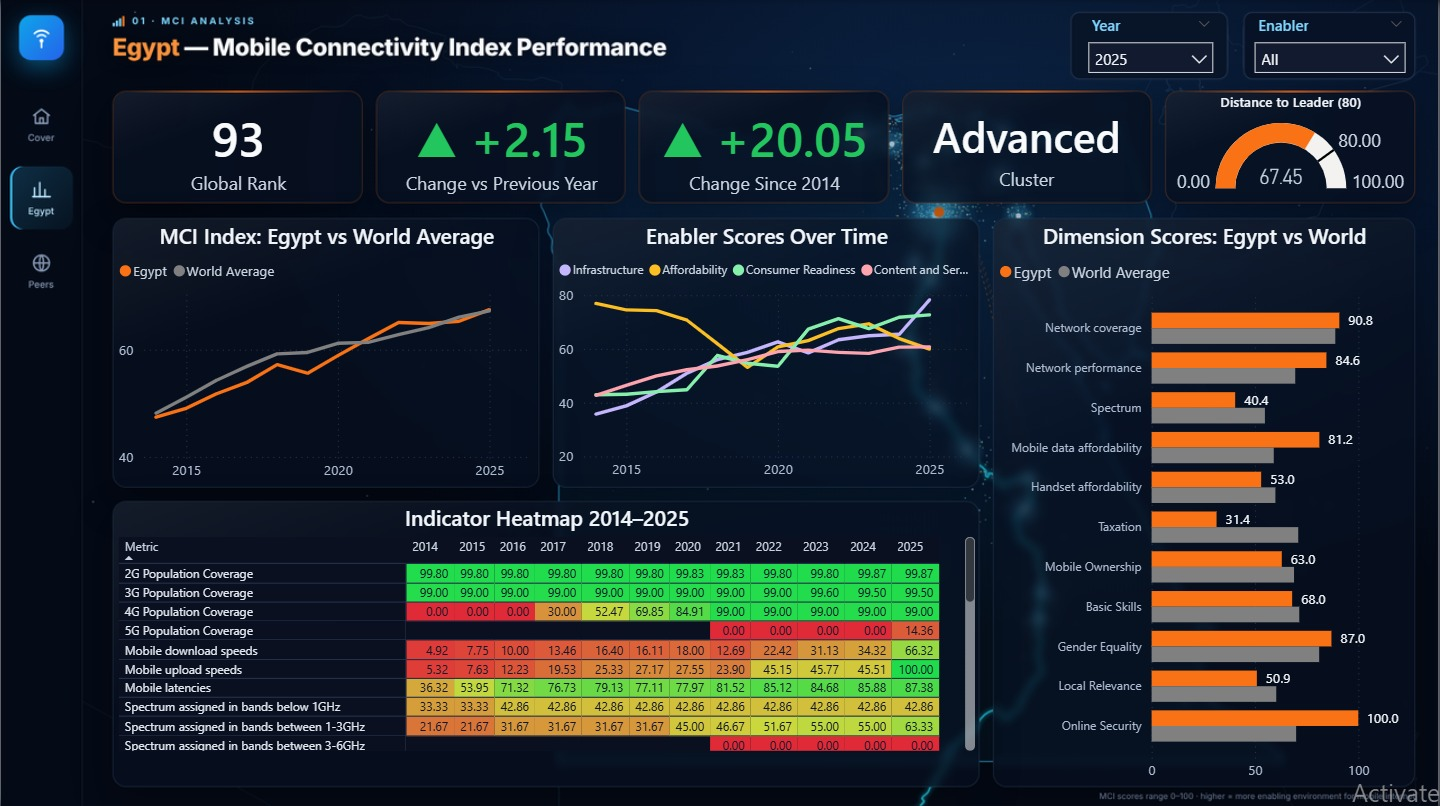

The page's visual inventory and layout, read from the dashboard file:
{"tool":"powerbi","page":{"name":"Egypt Overview","canvas":[1280,720],"ordinal":1},"visuals":[{"type":"slicer","fields":{"Values":["Index Scores.Year"]},"box":[959.1,8.4,129.1,62.7],"z":0},{"type":"card","fields":{"Values":["_Measures.YoY Display"]},"box":[335,83,222.3,100.2],"z":1000},{"type":"card","fields":{"Values":["_Measures.Since2014 Display"]},"box":[569,83,223,100.2],"z":2000},{"type":"card","fields":{"Values":["_Measures.Global Rank"]},"box":[100,83,223,100.2],"z":3000},{"type":"card","fields":{"Values":["_Measures.Current Cluster"]},"box":[802.5,82.7,222.4,99.8],"z":4000},{"type":"lineChart","title":"MCI Index: Egypt vs World Average","fields":{"Category":["Index Scores.Year"],"Y":["_Measures.Index Score","_Measures.World Avg Index"]},"box":[100,197,380,240],"z":5000},{"type":"lineChart","title":"Enabler Scores Over Time","fields":{"Category":["Index Scores.Year"],"Y":["Avg(Index Scores.Score)"],"Series":["Dim_Metric.Metric"]},"box":[491.6,197.4,380.1,239.1],"z":6000},{"type":"clusteredBarChart","title":"Dimension Scores: Egypt vs World","fields":{"Category":["Dim_Metric.Metric"],"Y":["Avg(Index Scores.Score)","_Measures.World Avg Score"]},"box":[884,197,376,507],"z":7000},{"type":"pivotTable","title":"Indicator Heatmap 2014–2025","fields":{"Rows":["Dim_Metric.Metric"],"Columns":["Index Scores.Year"],"Values":["Avg(Index Scores.Score)"]},"box":[99.8,449,772.6,225.2],"z":8000},{"type":"gauge","title":"Distance to Leader (80)","fields":{"Y":["_Measures.Index Score"]},"box":[1037.7,82.7,222.4,99.8],"z":9000},{"type":"slicer","fields":{"Values":["Dim_Metric.Enabler"]},"box":[1107.5,8.4,152,62.7],"z":10000},{"type":"actionButton","box":[0,82.3,81,60.4],"z":11000},{"type":"actionButton","box":[0,215.4,81,54.9],"z":12000}]}

Visuals, with their boxes on the page's 1280x720 design canvas (x1, y1, x2, y2). These are canvas units, not pixel positions in the 1440x806 screenshot, which may show the page scaled, cropped or inside an application window:
slicer - Index Scores.Year: bbox=(959, 8, 1088, 71)
card - _Measures.YoY Display: bbox=(335, 83, 557, 183)
card - _Measures.Since2014 Display: bbox=(569, 83, 792, 183)
card - _Measures.Global Rank: bbox=(100, 83, 323, 183)
card - _Measures.Current Cluster: bbox=(802, 83, 1025, 182)
"MCI Index: Egypt vs World Average" lineChart: bbox=(100, 197, 480, 437)
"Enabler Scores Over Time" lineChart: bbox=(492, 197, 872, 436)
"Dimension Scores: Egypt vs World" clusteredBarChart: bbox=(884, 197, 1260, 704)
"Indicator Heatmap 2014–2025" pivotTable: bbox=(100, 449, 872, 674)
"Distance to Leader (80)" gauge: bbox=(1038, 83, 1260, 182)
slicer - Dim_Metric.Enabler: bbox=(1108, 8, 1260, 71)
actionButton: bbox=(0, 82, 81, 143)
actionButton: bbox=(0, 215, 81, 270)
